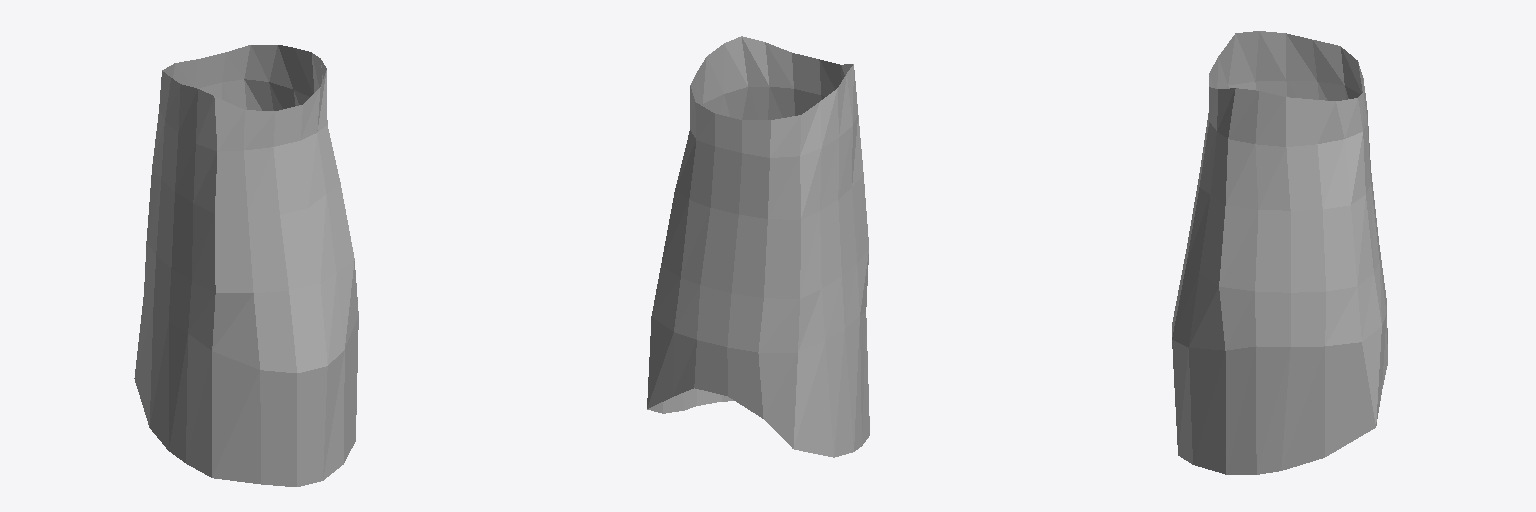
File: rightLeg3Cover.obj
3 views of the same model, side by side, from view 1: azimuth 30°, elevation 25°; view 2: azimuth 150°, elevation 25°; view 3: azimuth 270°, elevation 25° (orthographic).
Parts seen in each view (by area): view 1: unnamed_object1; view 2: unnamed_object1; view 3: unnamed_object1.
Part boxes in pixels (x1,y1,x2,y2): unnamed_object1: (134,45,358,486); unnamed_object1: (647,36,869,457); unnamed_object1: (1172,31,1387,474).
Size of the model in its own units: 10.59 by 22.39 by 11.44.